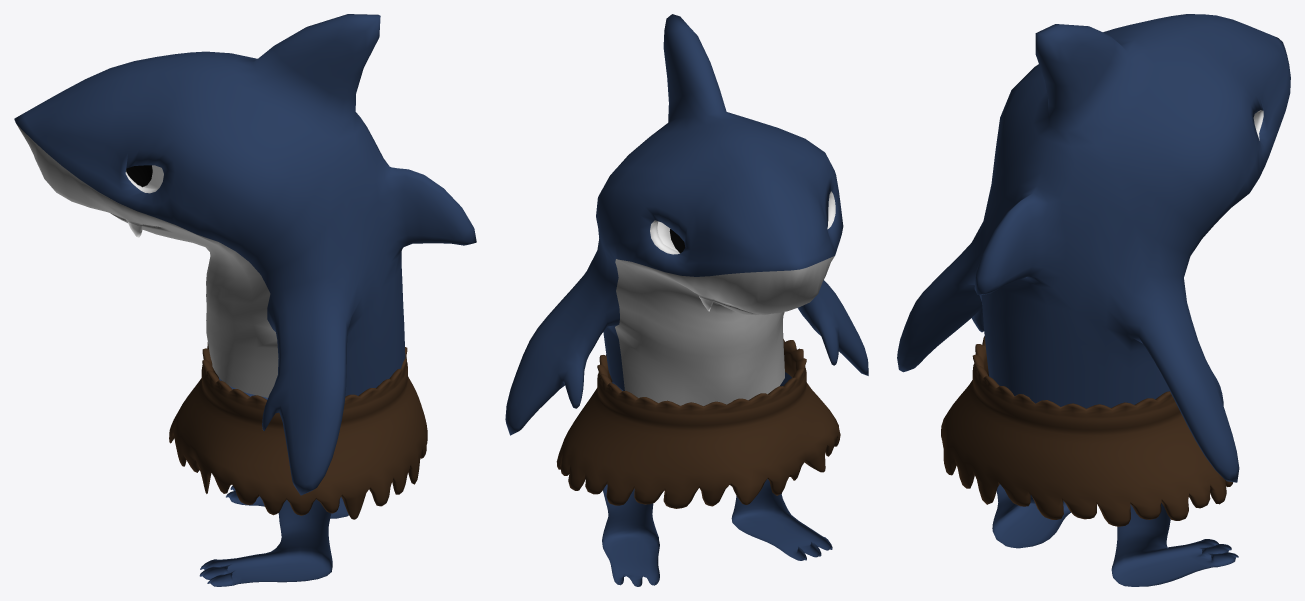
File: シャーク.fbx
The picture shows the model from 3 angles, left to right: view 1: azimuth 30°, elevation 25°; view 2: azimuth 150°, elevation 25°; view 3: azimuth 270°, elevation 25°; orthographic projection. The views are drawn at different scales.
Visible parts, largest first — view 1: 円錐; view 2: 円錐; view 3: 円錐.
Boxes of the visible parts, x1,y1,x2,y2 form: 円錐: (14,14,476,586); 円錐: (505,14,868,586); 円錐: (897,14,1290,586).
Bounding box in the file's own units: 226 × 336 × 219.
